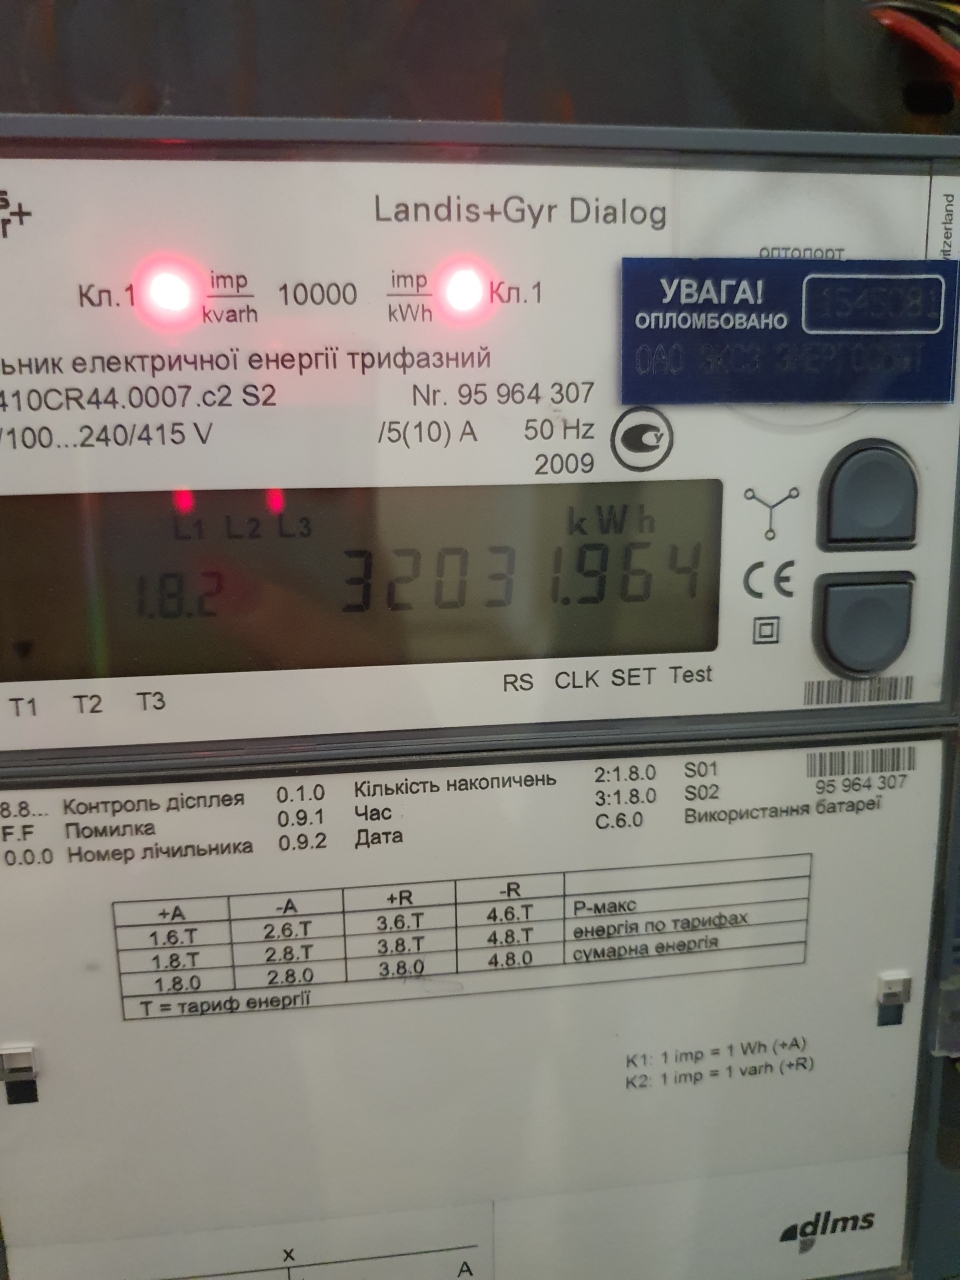screen: (0, 427, 738, 685)
